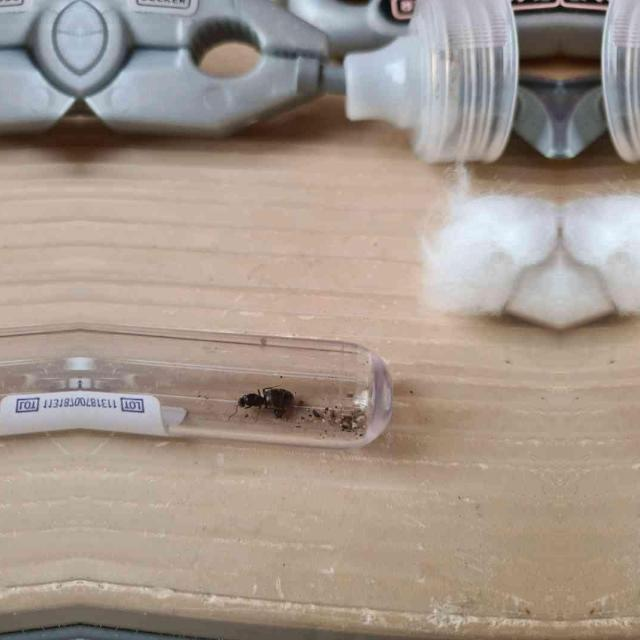Lasius: (226, 373, 290, 419)
